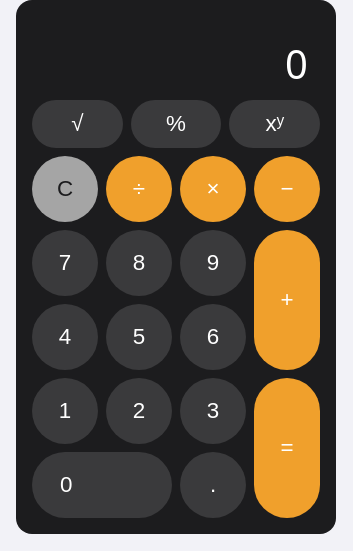
Scenario: Calculator › applies a unary operation to the displayed value immediately
Click the button "9": point(213, 263) [180, 230, 246, 296]
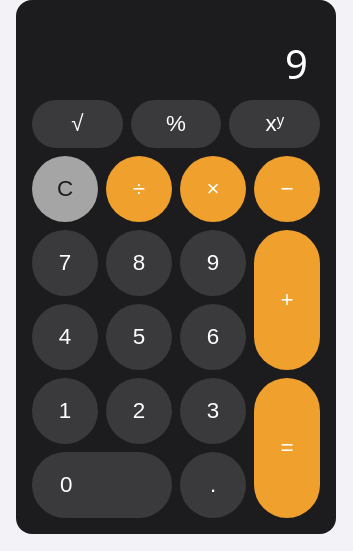
Click the button "√": point(77, 124) [32, 100, 123, 148]
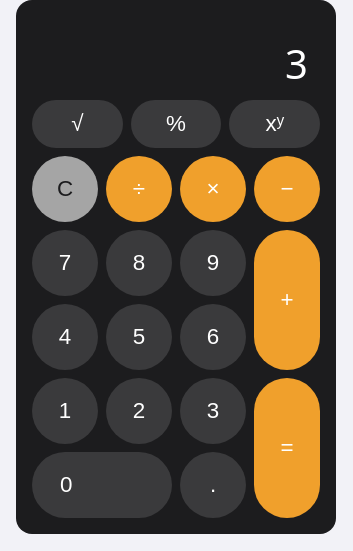
Check: the text with test id "display" reads "3", box [285, 36, 308, 91]
